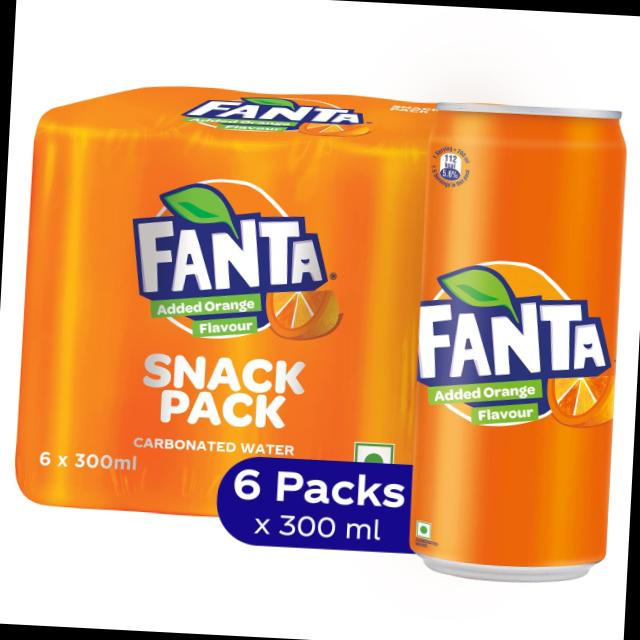fanta: (394, 92, 640, 586)
